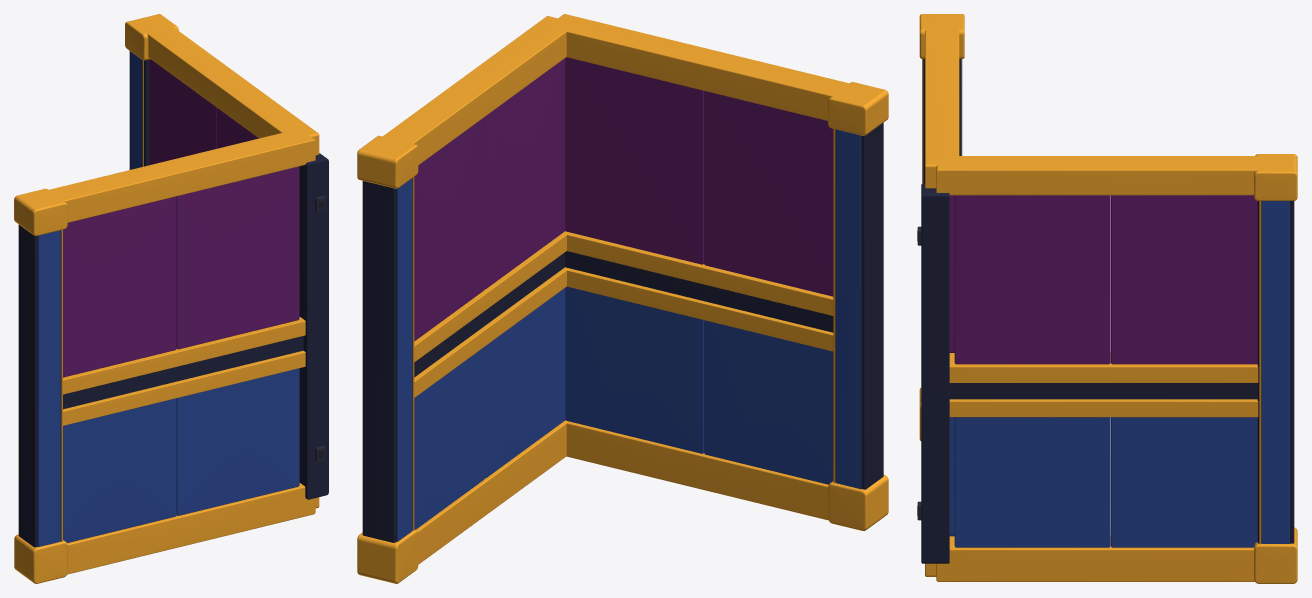
The model's file is StudioWallCorner.glb.
The picture shows the model from 3 angles, left to right: view 1: azimuth 30°, elevation 25°; view 2: azimuth 150°, elevation 25°; view 3: azimuth 270°, elevation 25°; orthographic projection. The views are drawn at different scales.
Parts seen in each view (by area): view 1: LeftUpperPurplePanel_1, LeftUpperPurplePanel_2, LeftLowerBluePanel_1, LeftLowerBluePanel_2, LeftGoldTopRail, CornerStructuralPost, LeftGoldBaseRail, LeftOuterPostFace, LeftEndPost, RightGoldTopRail, RightUpperPurplePanel_2, LeftUpperGoldMidRail (+9 smaller); view 2: LeftUpperPurplePanel_1, LeftUpperPurplePanel_2, LeftLowerBluePanel_1, LeftLowerBluePanel_2, RightUpperPurplePanel_1, RightEndPost, RightUpperPurplePanel_2, LeftGoldTopRail, RightLowerBluePanel_1, LeftGoldBaseRail, RightLowerBluePanel_2, LeftInnerPostFace (+16 smaller); view 3: RightUpperPurplePanel_1, RightUpperPurplePanel_2, RightLowerBluePanel_1, RightLowerBluePanel_2, RightGoldTopRail, RightGoldBaseRail, CornerStructuralPost, RightOuterPostFace, RightUpperGoldMidRail, RightLowerGoldMidRail, RightRecessedMidBand, LeftGoldTopRail (+7 smaller).
Part boxes in pixels (x1=…): LeftUpperPurplePanel_1: x1=176, y1=166, x2=299, y2=349; LeftUpperPurplePanel_2: x1=63, y1=196, x2=176, y2=377; LeftLowerBluePanel_1: x1=176, y1=368, x2=299, y2=515; LeftLowerBluePanel_2: x1=63, y1=398, x2=176, y2=542; LeftGoldTopRail: x1=36, y1=129, x2=315, y2=222; CornerStructuralPost: x1=299, y1=153, x2=328, y2=499; LeftGoldBaseRail: x1=67, y1=483, x2=315, y2=574; LeftOuterPostFace: x1=38, y1=230, x2=60, y2=546; LeftEndPost: x1=18, y1=224, x2=61, y2=547; RightGoldTopRail: x1=141, y1=21, x2=319, y2=155; RightUpperPurplePanel_2: x1=149, y1=59, x2=216, y2=165; LeftUpperGoldMidRail: x1=63, y1=317, x2=305, y2=394; LeftUpperPurplePanel_1: x1=565, y1=57, x2=703, y2=264; LeftUpperPurplePanel_2: x1=704, y1=91, x2=833, y2=296; LeftLowerBluePanel_1: x1=565, y1=286, x2=703, y2=453; LeftLowerBluePanel_2: x1=704, y1=320, x2=833, y2=484; RightUpperPurplePanel_1: x1=485, y1=58, x2=565, y2=289; RightEndPost: x1=362, y1=178, x2=412, y2=542; RightUpperPurplePanel_2: x1=414, y1=117, x2=484, y2=341; LeftGoldTopRail: x1=549, y1=14, x2=864, y2=120; RightLowerBluePanel_1: x1=485, y1=288, x2=565, y2=478; LeftGoldBaseRail: x1=564, y1=420, x2=828, y2=520; RightLowerBluePanel_2: x1=414, y1=346, x2=484, y2=529; LeftInnerPostFace: x1=836, y1=129, x2=861, y2=489; RightUpperPurplePanel_1: x1=954, y1=195, x2=1110, y2=364; RightUpperPurplePanel_2: x1=1111, y1=195, x2=1257, y2=364; RightLowerBluePanel_1: x1=954, y1=417, x2=1110, y2=547; RightLowerBluePanel_2: x1=1111, y1=417, x2=1257, y2=547; RightGoldTopRail: x1=936, y1=156, x2=1273, y2=195; RightGoldBaseRail: x1=936, y1=535, x2=1254, y2=581; CornerStructuralPost: x1=921, y1=183, x2=949, y2=563; RightOuterPostFace: x1=1262, y1=201, x2=1289, y2=543; RightUpperGoldMidRail: x1=949, y1=352, x2=1258, y2=382; RightLowerGoldMidRail: x1=949, y1=399, x2=1258, y2=417; RightRecessedMidBand: x1=949, y1=383, x2=1257, y2=399; LeftGoldTopRail: x1=925, y1=22, x2=959, y2=188.
Size of the model in its own units: 1.87 by 2.25 by 1.88.
7 materials, 7 textured.
